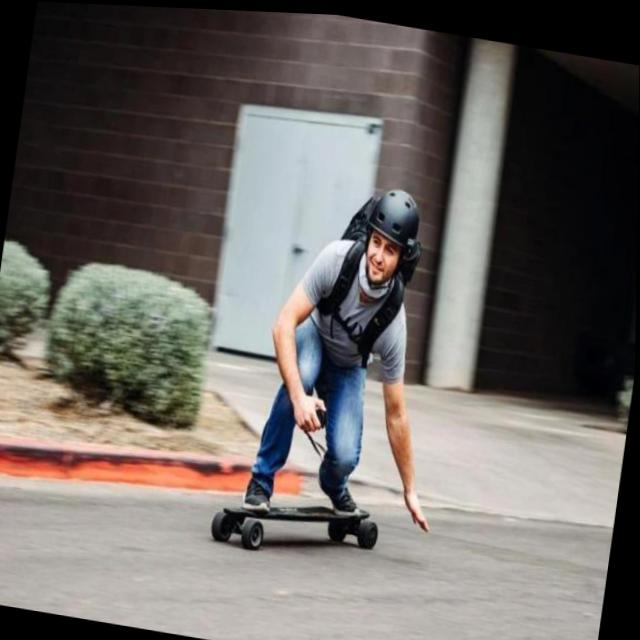helmet: (359, 178, 427, 292)
